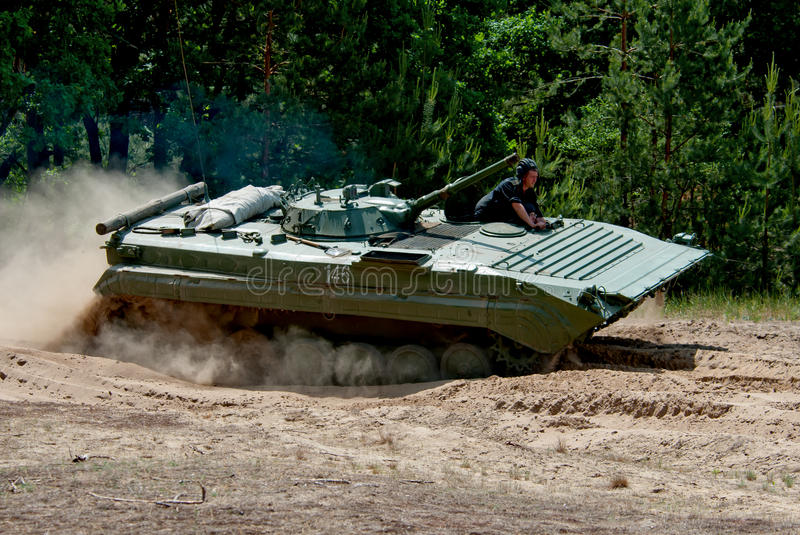bmp1: (96, 167, 715, 347)
